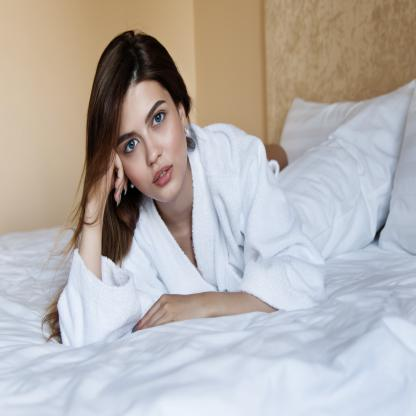Eye: (122, 138, 140, 156), (151, 110, 166, 129)
Mouth: (152, 164, 174, 188)
Nose: (143, 129, 162, 166)
